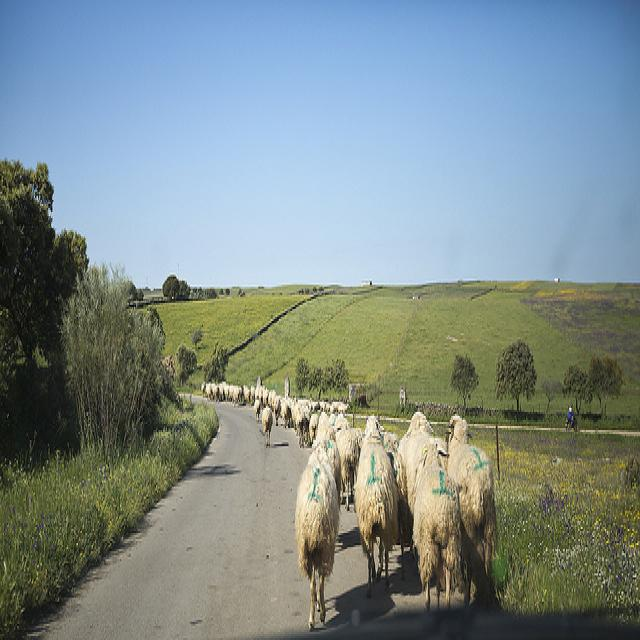motor: (565, 413, 576, 431)
